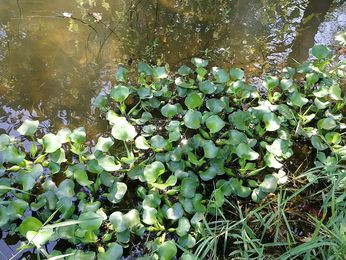water_hyacinth: (0, 50, 344, 259)
